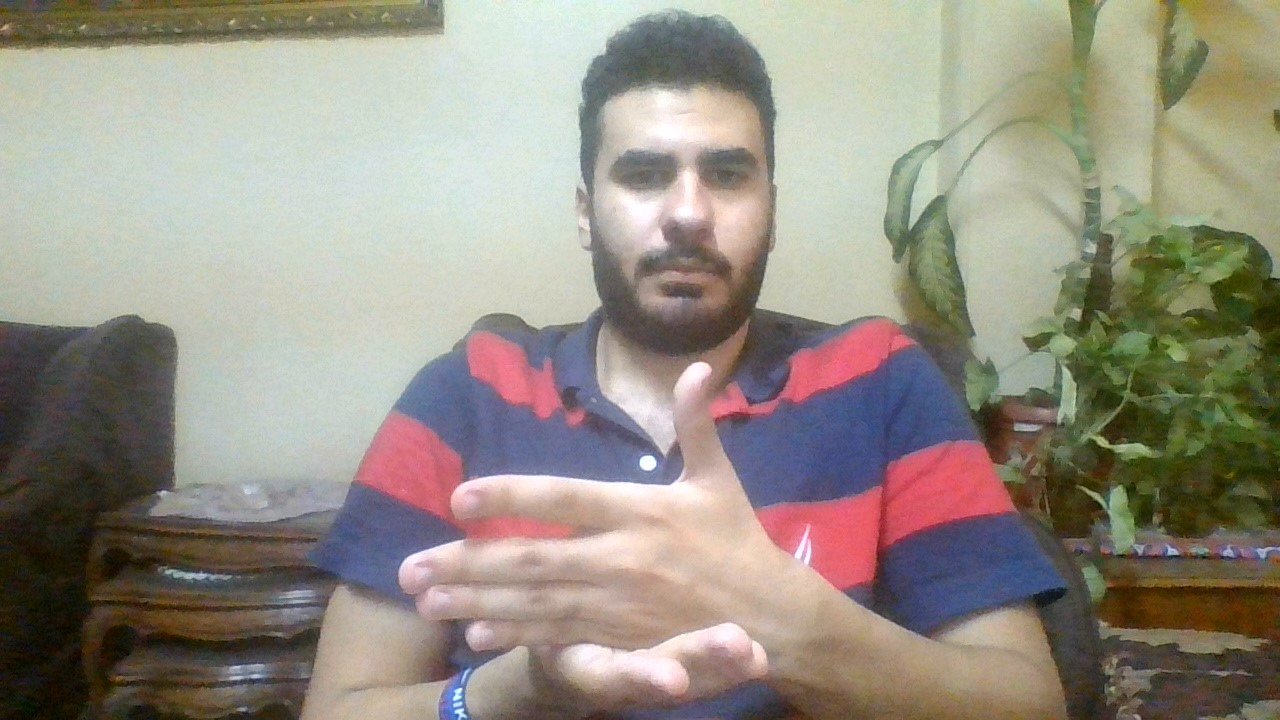stop: (419, 359, 769, 718)
